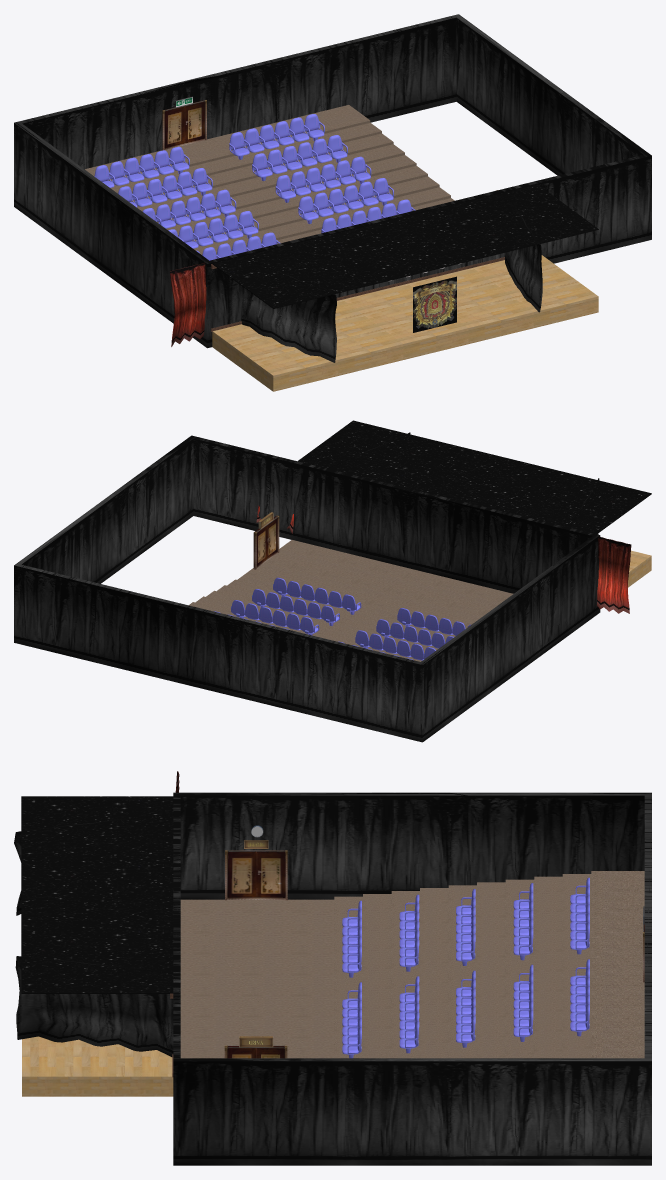
File: Theatre.glb
The picture shows the model from 3 angles, top to bottom: view 1: azimuth 30°, elevation 25°; view 2: azimuth 150°, elevation 25°; view 3: azimuth 270°, elevation 25°; orthographic projection. The views are drawn at different scales.
Parts seen in each view (by area): view 1: Theatre; view 2: Theatre; view 3: Theatre.
Part boxes in pixels (x1,y1,x2,y2): Theatre: (14, 14, 651, 391); Theatre: (14, 420, 651, 742); Theatre: (14, 771, 651, 1165).
Bounding box in the file's own units: 225 × 52.03 × 209.
Materials: 17 (16 with a texture image).
